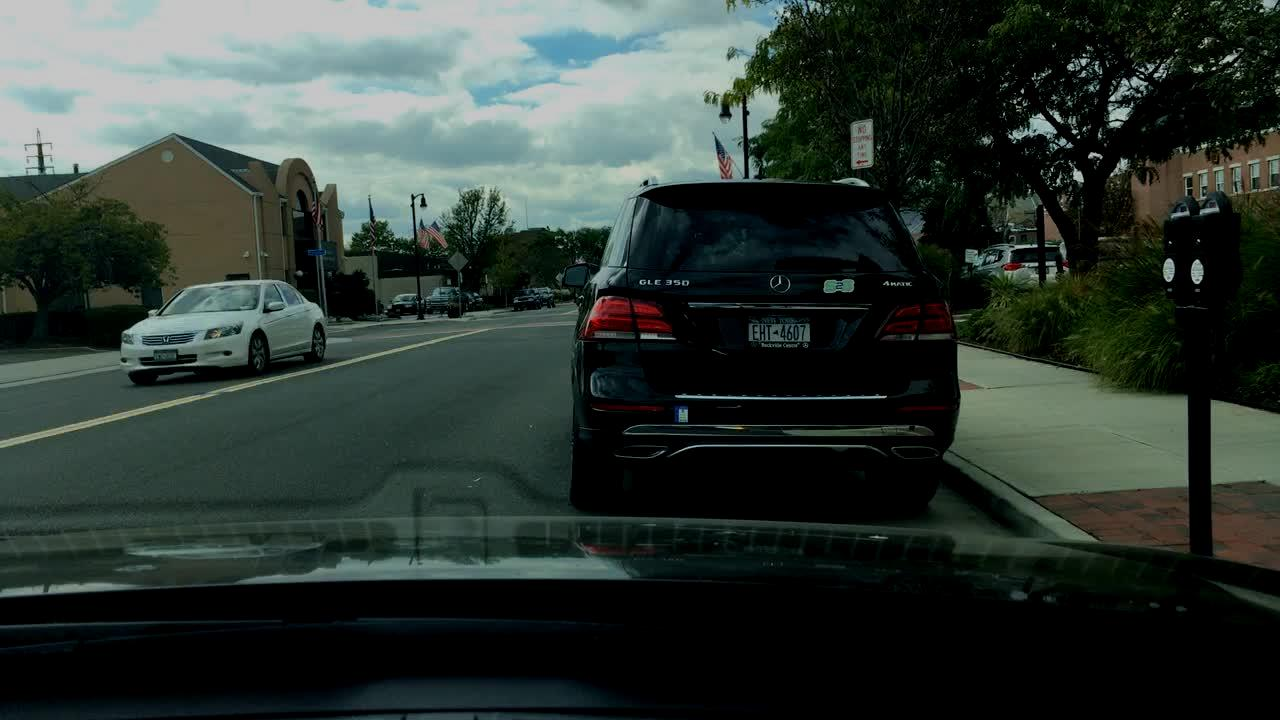Honda: (161, 335, 174, 347)
Mercedes: (765, 272, 793, 299)
